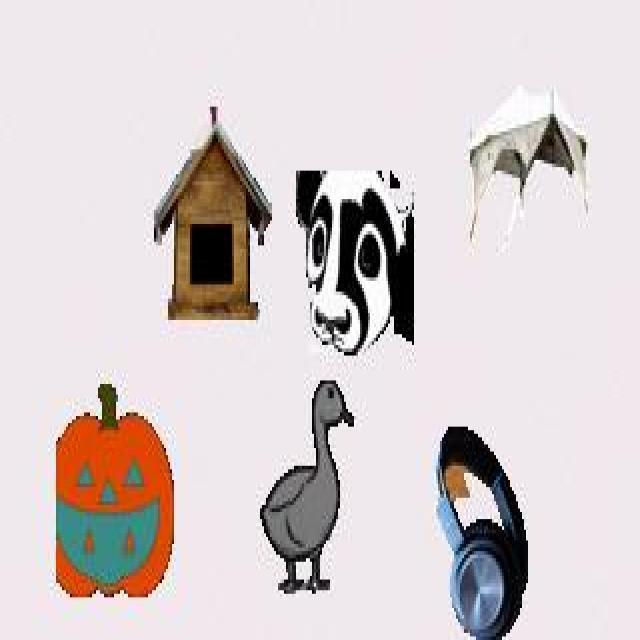Other Objects: (258, 378, 356, 594), (434, 424, 529, 640)
